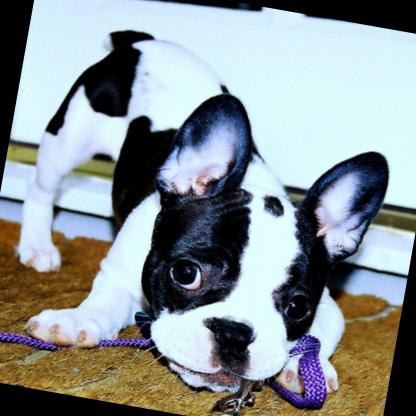French_bulldog: (0, 12, 407, 403)
